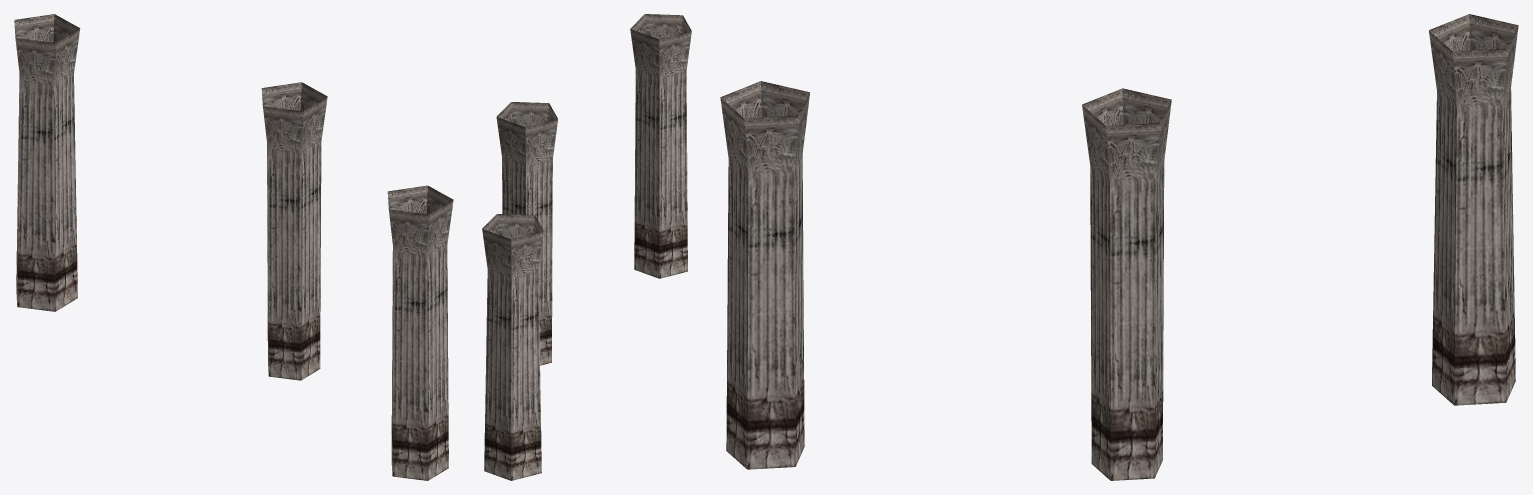
3 views of the same model, side by side, from view 1: azimuth 30°, elevation 25°; view 2: azimuth 150°, elevation 25°; view 3: azimuth 270°, elevation 25° (orthographic). The views are drawn at different scales.
Visible parts, largest first — view 1: Cylinder06; view 2: Cylinder06; view 3: Cylinder06.
Boxes of the visible parts, x1,y1,x2,y2 form: Cylinder06: [14, 14, 453, 480]; Cylinder06: [482, 14, 691, 480]; Cylinder06: [720, 14, 1518, 480].
Bounding box in the file's own units: 67.99 × 102 × 205.
